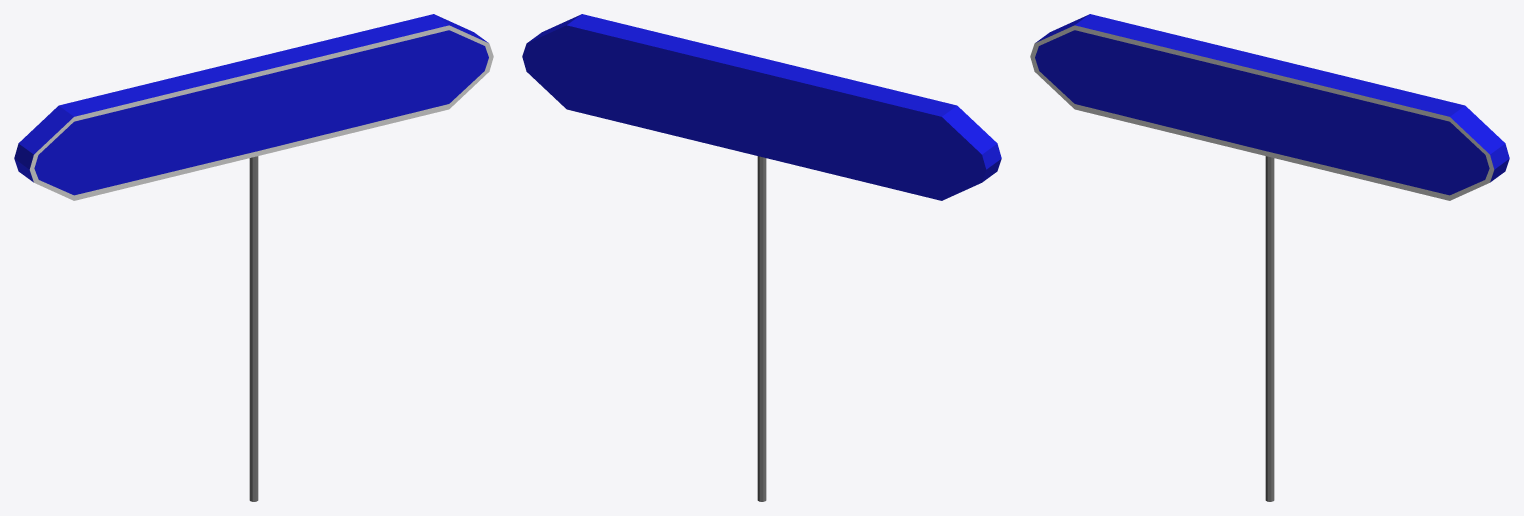
File: autobahnwegeschild.fbx
3 renders of one model, left to right at view 1: azimuth 30°, elevation 25°; view 2: azimuth 150°, elevation 25°; view 3: azimuth 330°, elevation 25°, orthographic.
Parts seen in each view (by area): view 1: Cube, links, stange, rechts; view 2: Cube, links, stange, rechts; view 3: Cube, rechts, stange, links.
Part boxes in pixels (x1,y1,x2,y2): Cube: (59,14,449,200); links: (14,105,73,200); stange: (249,156,258,501); rechts: (434,14,493,108); Cube: (566,14,956,200); links: (942,105,1001,200); stange: (757,156,766,501); rechts: (522,14,581,108); Cube: (1074,14,1464,200); rechts: (1450,105,1509,200); stange: (1265,156,1274,501); links: (1030,14,1089,108).
Size of the model in its own units: 346 by 310 by 20.
